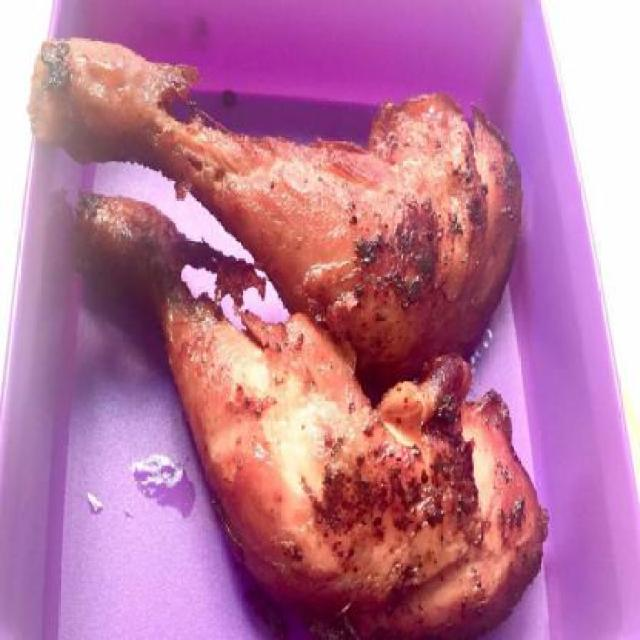Wet Waste: (75, 198, 548, 636), (28, 34, 523, 374)
